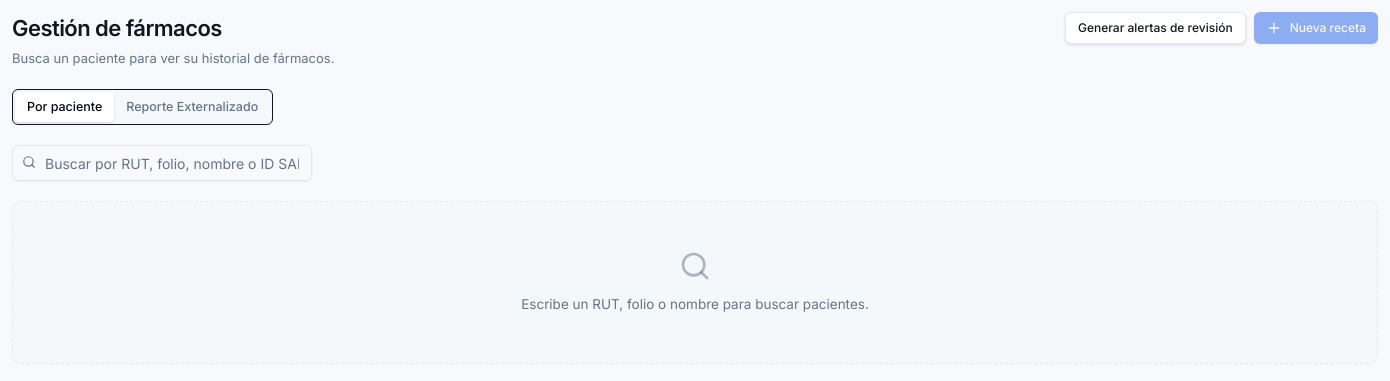
FarmacosPage — vista del reporte Externalizado › Coordinación cambia a la vista del reporte
Click the button with test id "vista-farmacos-externalizado": click(192, 107) [114,92,270,122]
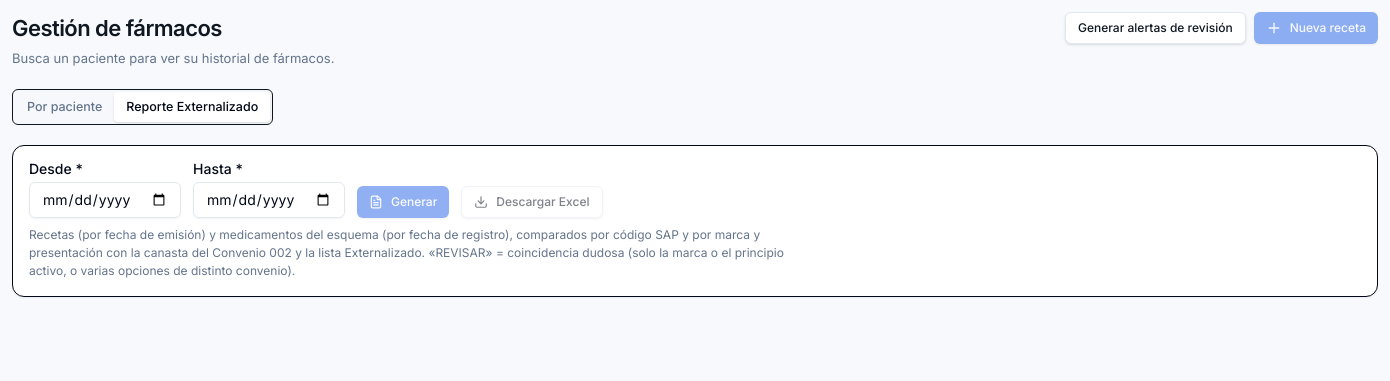
Expected: the button with test id "btn-generar-externalizado" is shown, [357,186,449,218]
Expected: the text labelled "buscar pacientes" is gone
